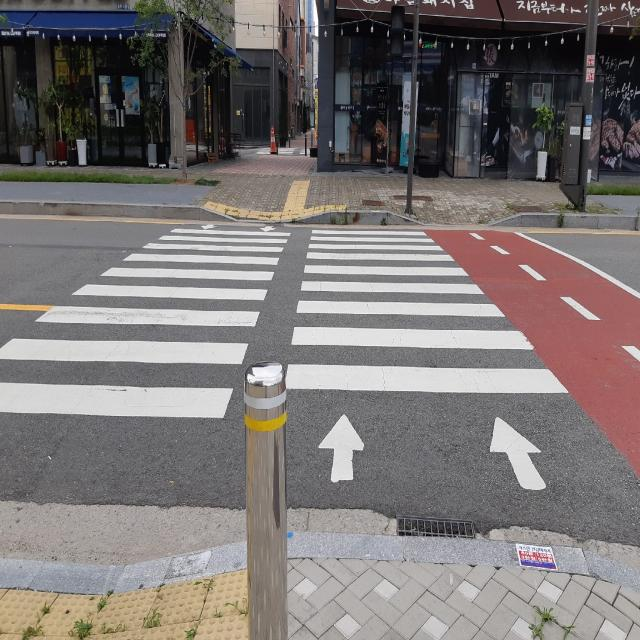횡단보도: (0, 224, 569, 489)
